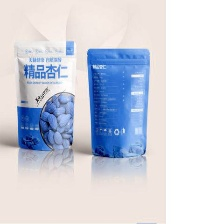snack: (8, 34, 81, 155), (81, 43, 154, 162)
